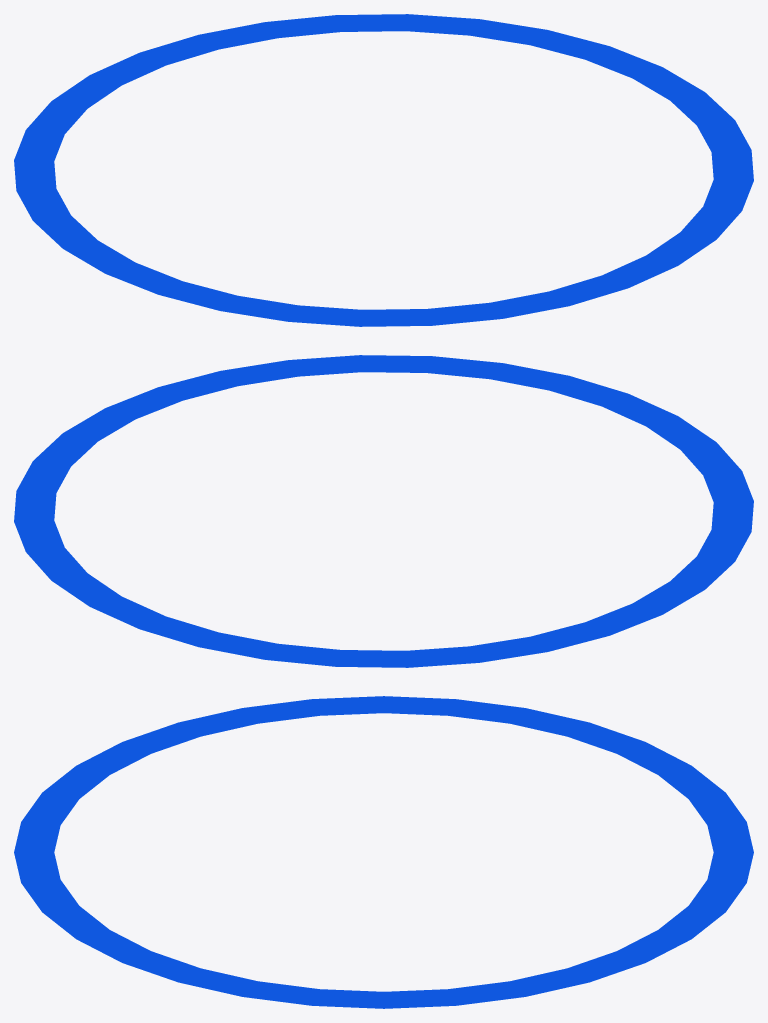
The picture shows the model from 3 angles, top to bottom: view 1: azimuth 30°, elevation 25°; view 2: azimuth 150°, elevation 25°; view 3: azimuth 270°, elevation 25°; orthographic projection.
Parts seen in each view (by area): view 1: Tube; view 2: Tube; view 3: Tube.
Boxes of the visible parts, bbox=[...] form: Tube: bbox=[14, 14, 753, 326]; Tube: bbox=[14, 355, 753, 667]; Tube: bbox=[14, 696, 753, 1008].
Size of the model in its own units: 1242 by 0 by 1242.
